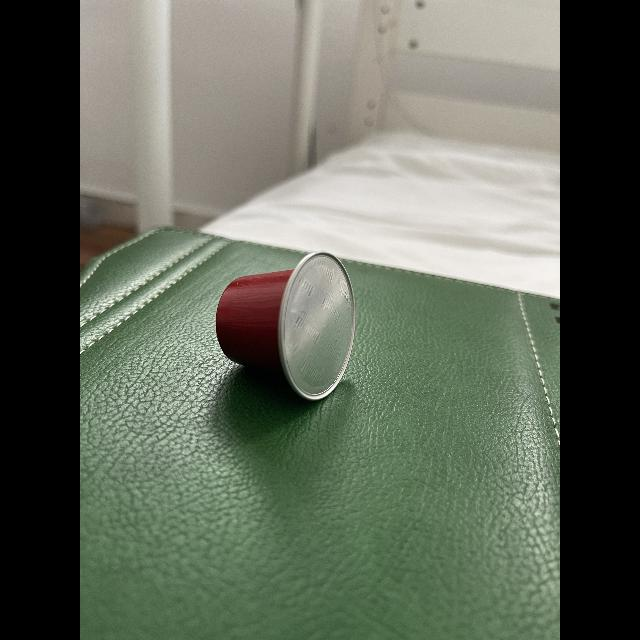intact_capsule: (205, 248, 359, 416)
